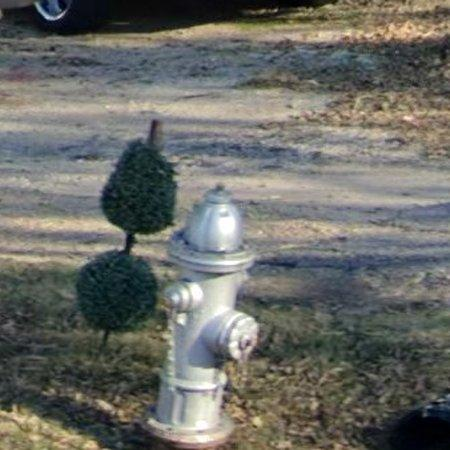a fire hydrant: (147, 186, 259, 450)
